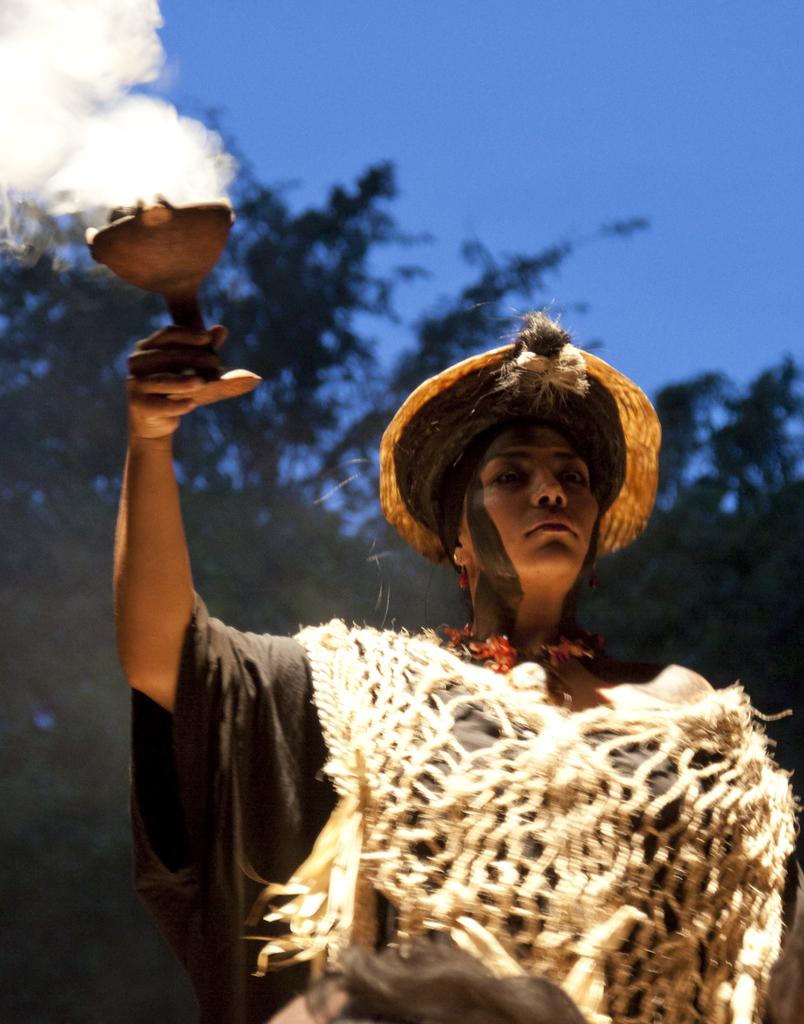Hat: (376, 298, 663, 574)
